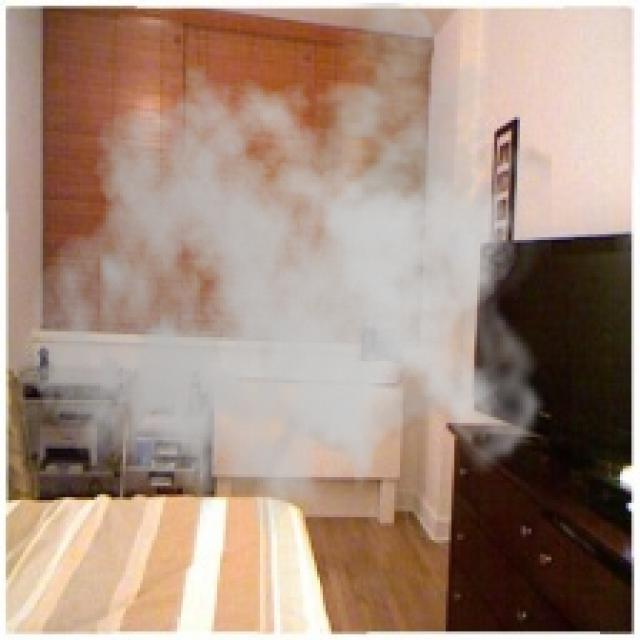smoke: (29, 3, 552, 566)
